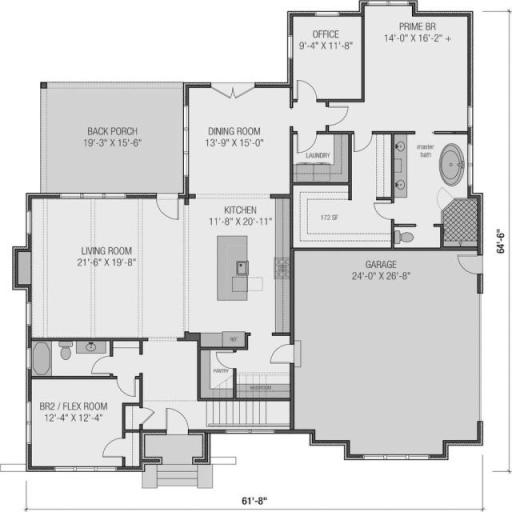Room: (192, 88, 284, 190), (371, 19, 464, 116), (32, 386, 121, 466), (295, 20, 357, 98)
bathroom: (296, 142, 477, 242)
garage: (301, 252, 479, 441)
hall: (38, 206, 180, 338)
kitchen: (196, 206, 296, 338)
porch: (47, 91, 185, 196)
